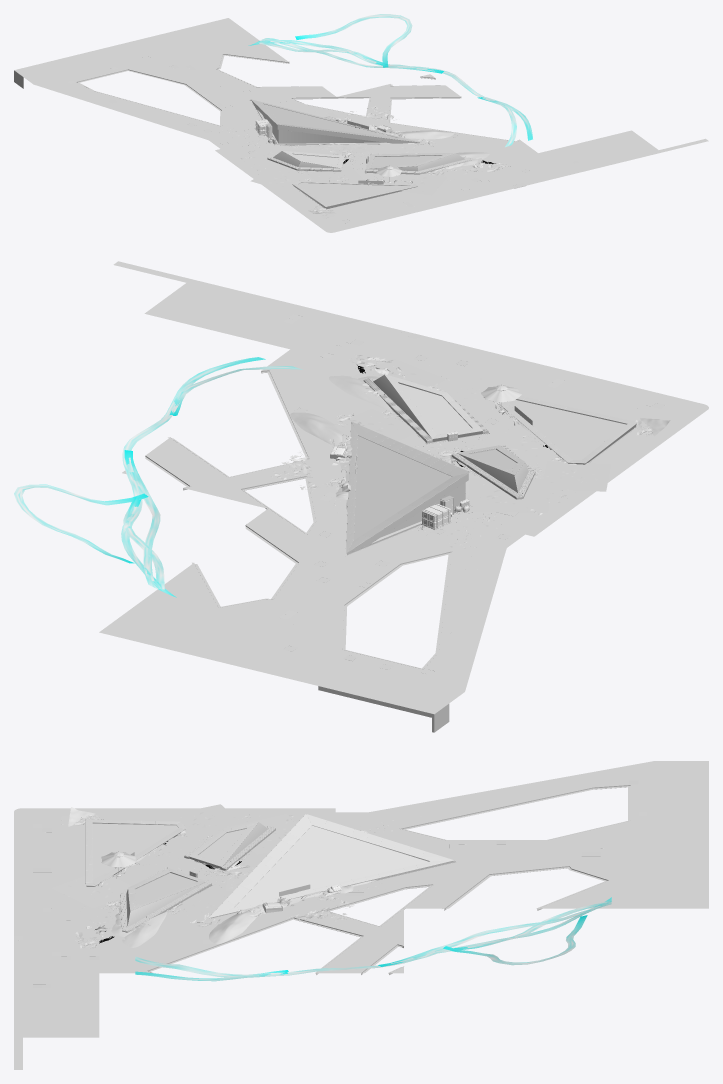
The model's file is cell_164_118.fbx.
3 renders of one model, top to bottom at view 1: azimuth 30°, elevation 25°; view 2: azimuth 150°, elevation 25°; view 3: azimuth 270°, elevation 25°, orthographic. The views are drawn at different scales.
Visible parts, largest first — view 1: SM_I_RoadFacility_Ground_C_07.mo, SM_I_RoadFacility_Ground_C_12B.mo, SpaceCenter_Long3_GenerateRoad_Sand_TireTracks_Width_Mesh_x1, SM_DECOR_GrassDebris_Less_01_HD.mo.780, SM_DECOR_GrassDebris_Less_01_HD.mo.514, SM_DECOR_GrassDebris_Less_01_HD.mo.518, SM_DECOR_GrassDebris_Less_01_HD.mo.560, SM_DECOR_GrassDebris_Less_01_HD.mo.520, SM_DECOR_GrassDebris_Less_01_HD.mo.778, SM_I_Terrain_Road_Desert_Decal_Sand_08.mo.013; view 2: SM_I_RoadFacility_Ground_C_07.mo, SM_I_RoadFacility_Ground_C_12B.mo, SpaceCenter_Long3_GenerateRoad_Sand_TireTracks_Width_Mesh_x1, SM_DECOR_GrassDebris_Less_01_HD.mo.514, SM_DECOR_GrassDebris_Less_01_HD.mo.518, SM_DECOR_GrassDebris_Less_01_HD.mo.780, SM_DECOR_GrassDebris_Less_01_HD.mo.520, SM_DECOR_GrassDebris_Less_01_HD.mo.560, SM_DECOR_GrassDebris_Less_01_HD.mo.778, SM_I_Terrain_Road_Desert_Decal_Sand_08.mo.013, SM_I_Terrain_Road_Desert_Decal_Sand_08.mo.015; view 3: SM_I_RoadFacility_Ground_C_07.mo, SM_I_RoadFacility_Ground_C_12B.mo, SpaceCenter_Long3_GenerateRoad_Sand_TireTracks_Width_Mesh_x1, SM_DECOR_GrassDebris_Less_01_HD.mo.780, SM_DECOR_GrassDebris_Less_01_HD.mo.518, SM_DECOR_GrassDebris_Less_01_HD.mo.560, SM_DECOR_GrassDebris_Less_01_HD.mo.520, SM_DECOR_GrassDebris_Less_01_HD.mo.778, SM_DECOR_GrassDebris_Less_01_HD.mo.514, SM_I_Terrain_Road_Desert_Decal_Sand_08.mo.013, SM_I_Terrain_Road_Desert_Decal_Sand_08.mo.015.
Part boxes in pixels (<box>): SM_I_RoadFacility_Ground_C_07.mo: <box>14,18,708,232</box>; SM_I_RoadFacility_Ground_C_12B.mo: <box>251,99,471,209</box>; SpaceCenter_Long3_GenerateRoad_Sand_TireTracks_Width_Mesh_x1: <box>248,14,532,147</box>; SM_DECOR_GrassDebris_Less_01_HD.mo.780: <box>391,174,446,195</box>; SM_DECOR_GrassDebris_Less_01_HD.mo.514: <box>241,142,306,171</box>; SM_DECOR_GrassDebris_Less_01_HD.mo.518: <box>250,168,308,191</box>; SM_DECOR_GrassDebris_Less_01_HD.mo.560: <box>380,138,433,153</box>; SM_DECOR_GrassDebris_Less_01_HD.mo.520: <box>309,166,364,185</box>; SM_DECOR_GrassDebris_Less_01_HD.mo.778: <box>442,158,491,179</box>; SM_I_Terrain_Road_Desert_Decal_Sand_08.mo.013: <box>397,130,454,139</box>; SM_I_RoadFacility_Ground_C_07.mo: <box>99,261,708,732</box>; SM_I_RoadFacility_Ground_C_12B.mo: <box>346,374,637,554</box>; SpaceCenter_Long3_GenerateRoad_Sand_TireTracks_Width_Mesh_x1: <box>14,357,302,597</box>; SM_DECOR_GrassDebris_Less_01_HD.mo.514: <box>468,478,550,512</box>; SM_DECOR_GrassDebris_Less_01_HD.mo.518: <box>543,461,611,491</box>; SM_DECOR_GrassDebris_Less_01_HD.mo.780: <box>440,376,514,410</box>; SM_DECOR_GrassDebris_Less_01_HD.mo.520: <box>480,423,555,463</box>; SM_DECOR_GrassDebris_Less_01_HD.mo.560: <box>334,409,415,441</box>; SM_DECOR_GrassDebris_Less_01_HD.mo.778: <box>351,359,445,386</box>; SM_I_Terrain_Road_Desert_Decal_Sand_08.mo.013: <box>290,412,349,445</box>; SM_I_Terrain_Road_Desert_Decal_Sand_08.mo.015: <box>329,375,393,411</box>; SM_I_RoadFacility_Ground_C_07.mo: <box>14,761,708,1069</box>; SM_I_RoadFacility_Ground_C_12B.mo: <box>85,814,454,932</box>; SpaceCenter_Long3_GenerateRoad_Sand_TireTracks_Width_Mesh_x1: <box>135,897,611,981</box>; SM_DECOR_GrassDebris_Less_01_HD.mo.780: <box>51,873,131,908</box>; SM_DECOR_GrassDebris_Less_01_HD.mo.518: <box>168,804,241,837</box>; SM_DECOR_GrassDebris_Less_01_HD.mo.560: <box>174,893,239,923</box>; SM_DECOR_GrassDebris_Less_01_HD.mo.520: <box>135,837,199,866</box>; SM_DECOR_GrassDebris_Less_01_HD.mo.778: <box>71,907,124,939</box>; SM_DECOR_GrassDebris_Less_01_HD.mo.514: <box>223,814,297,854</box>; SM_I_Terrain_Road_Desert_Decal_Sand_08.mo.013: <box>209,911,257,943</box>; SM_I_Terrain_Road_Desert_Decal_Sand_08.mo.015: <box>122,912,166,947</box>.
Bounding box in the file's own units: 98.16 × 6.88 × 93.38.
